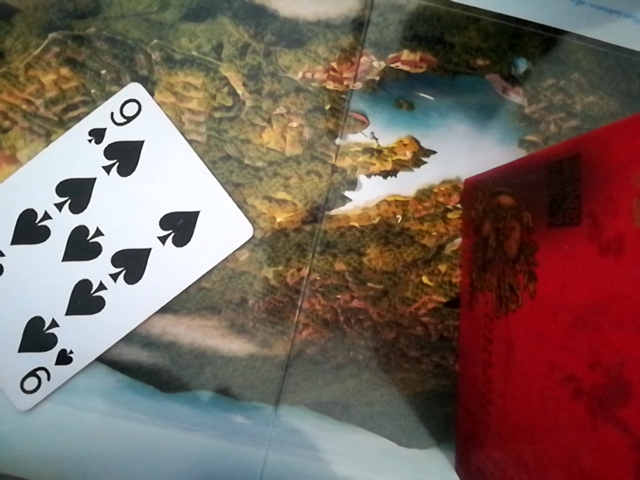ht 9: (1, 78, 252, 411)
